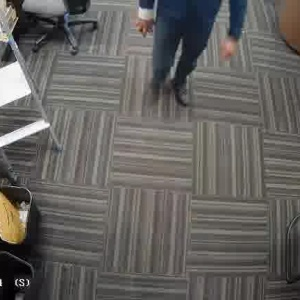person: (139, 0, 226, 109)
